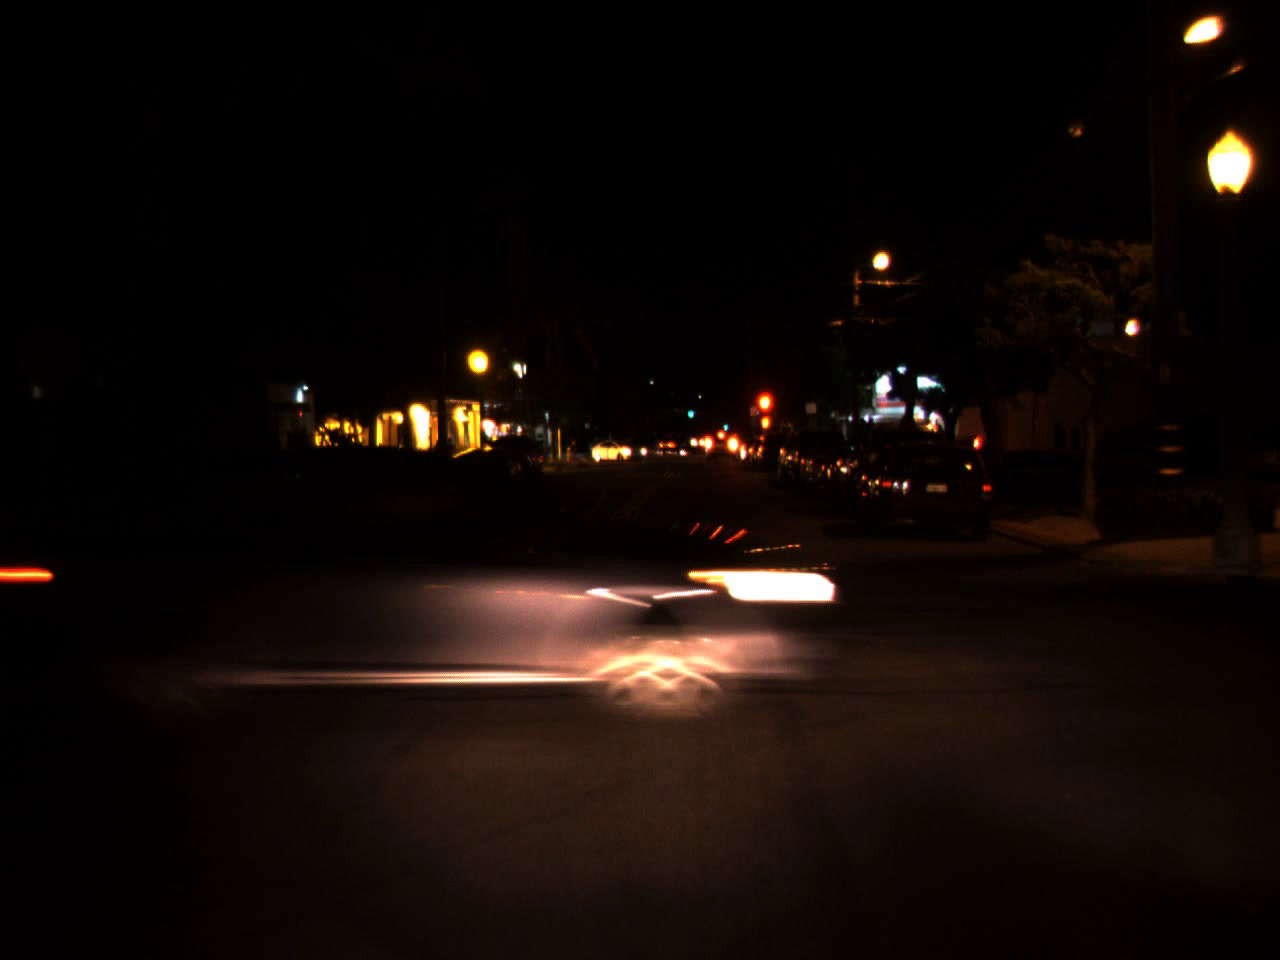go: (685, 404, 694, 419), (722, 418, 729, 430)
stop: (753, 388, 777, 439)
